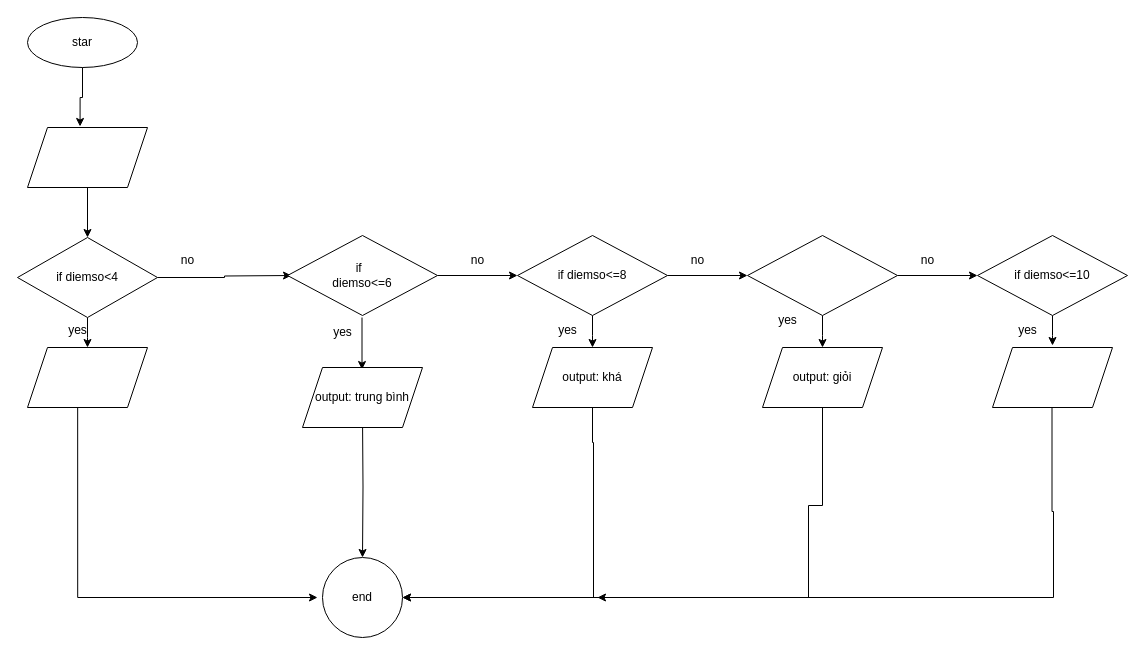
This 1145x655 diagram has some shape labels left out. The shapes that lost their labels are listed below. From the top down, each one's centre as x and y in pixels, then its label:
the point at 87,157: input diemso
the point at 822,275: if diemso<=9
the point at 87,377: output: khong dat
the point at 1052,377: output: xuất sắc
